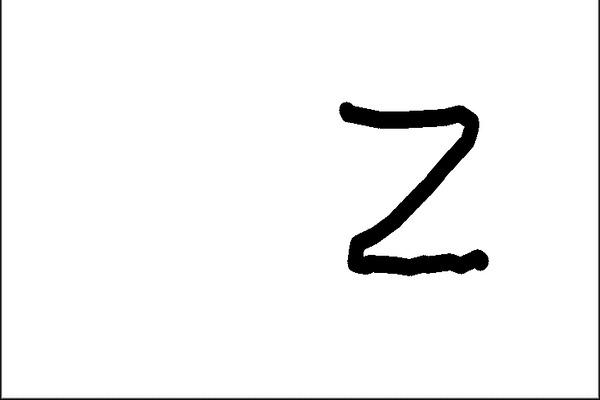Z: (331, 91, 496, 285)
